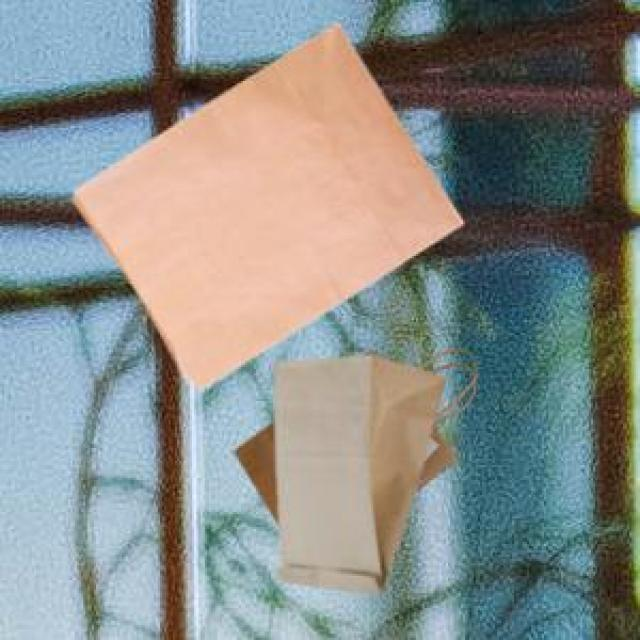paper: (70, 19, 459, 384), (271, 352, 442, 591), (230, 418, 381, 521), (381, 418, 452, 494)
